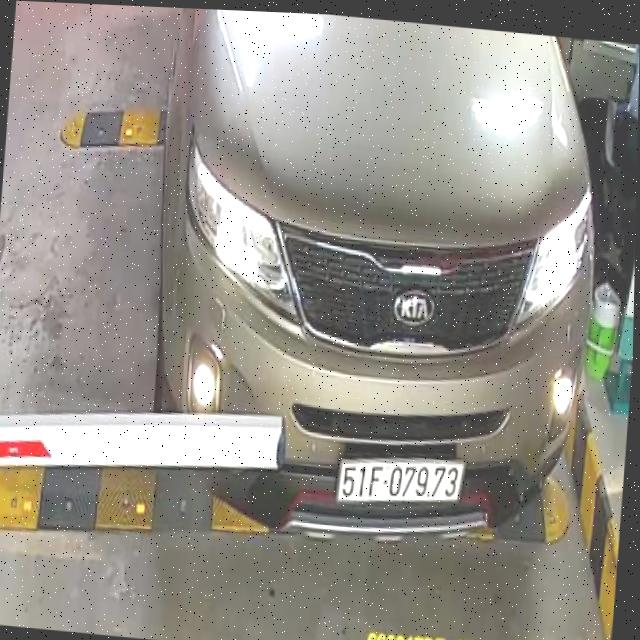car: (129, 6, 618, 562)
plate: (334, 447, 467, 516)
